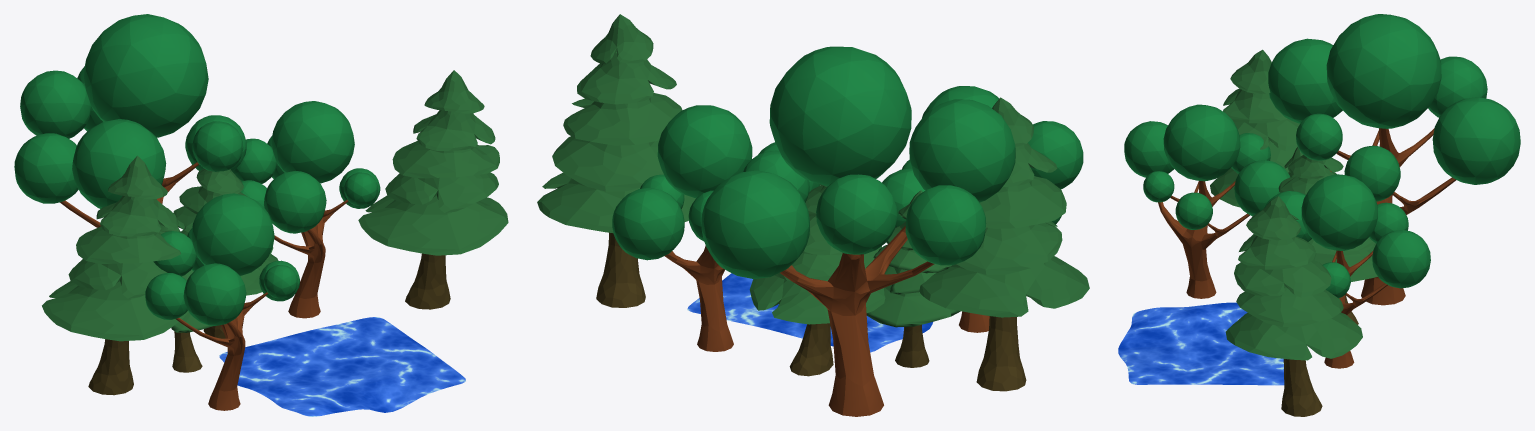
The model's file is Tree03.gltf.
The picture shows the model from 3 angles, left to right: view 1: azimuth 30°, elevation 25°; view 2: azimuth 150°, elevation 25°; view 3: azimuth 270°, elevation 25°; orthographic projection. The views are drawn at different scales.
Parts seen in each view (by area): view 1: Tree01, Tree03.003, Tree03.002, Grid, Tree01.001, Tree01.002, Tree03, Tree03.001; view 2: Tree01, Tree03.003, Tree03.002, Tree01.002, Tree03, Tree01.001, Tree03.001, Grid; view 3: Tree01, Tree03.003, Tree01.001, Tree01.002, Grid, Tree03.002, Tree03.
Boxes of the visible parts, bbox=[...] form: Tree01: bbox=[14, 14, 246, 227]; Tree03.003: bbox=[358, 70, 508, 309]; Tree03.002: bbox=[42, 155, 188, 395]; Grid: bbox=[219, 317, 465, 416]; Tree01.001: bbox=[145, 193, 299, 410]; Tree01.002: bbox=[232, 101, 380, 318]; Tree03: bbox=[173, 168, 278, 338]; Tree03.001: bbox=[159, 208, 213, 372]; Tree01: bbox=[701, 46, 1015, 416]; Tree03.003: bbox=[537, 14, 695, 307]; Tree03.002: bbox=[919, 97, 1089, 391]; Tree01.002: bbox=[612, 105, 820, 351]; Tree03: bbox=[749, 184, 885, 376]; Tree01.001: bbox=[882, 86, 1083, 332]; Tree03.001: bbox=[866, 190, 960, 367]; Grid: bbox=[687, 273, 932, 352]; Tree01: bbox=[1268, 14, 1520, 305]; Tree03.003: bbox=[1225, 196, 1362, 416]; Tree01.001: bbox=[1124, 104, 1290, 298]; Tree01.002: bbox=[1264, 174, 1430, 368]; Grid: bbox=[1118, 302, 1284, 385]; Tree03.002: bbox=[1210, 49, 1336, 207]; Tree03: bbox=[1278, 155, 1377, 324].
Bounding box in the file's own units: 18.33 × 11.98 × 15.24.
Materials: 8 (8 with a texture image).
